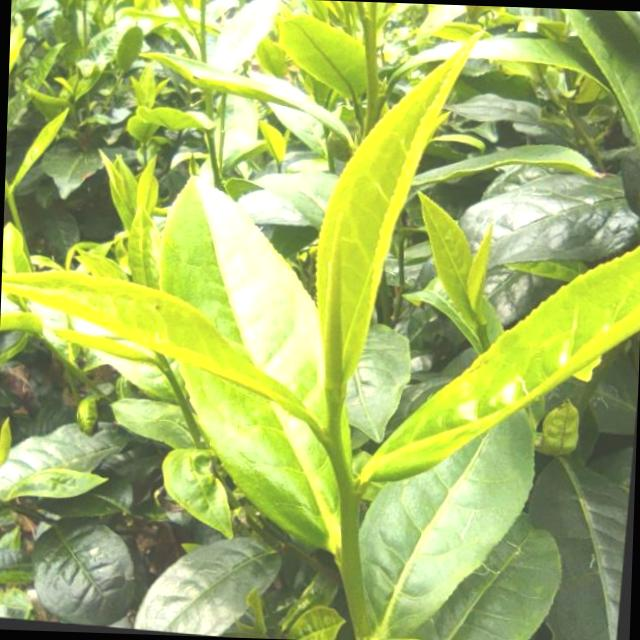Stem: (322, 441, 355, 485), (163, 368, 179, 389), (478, 332, 490, 351), (199, 45, 206, 63)
